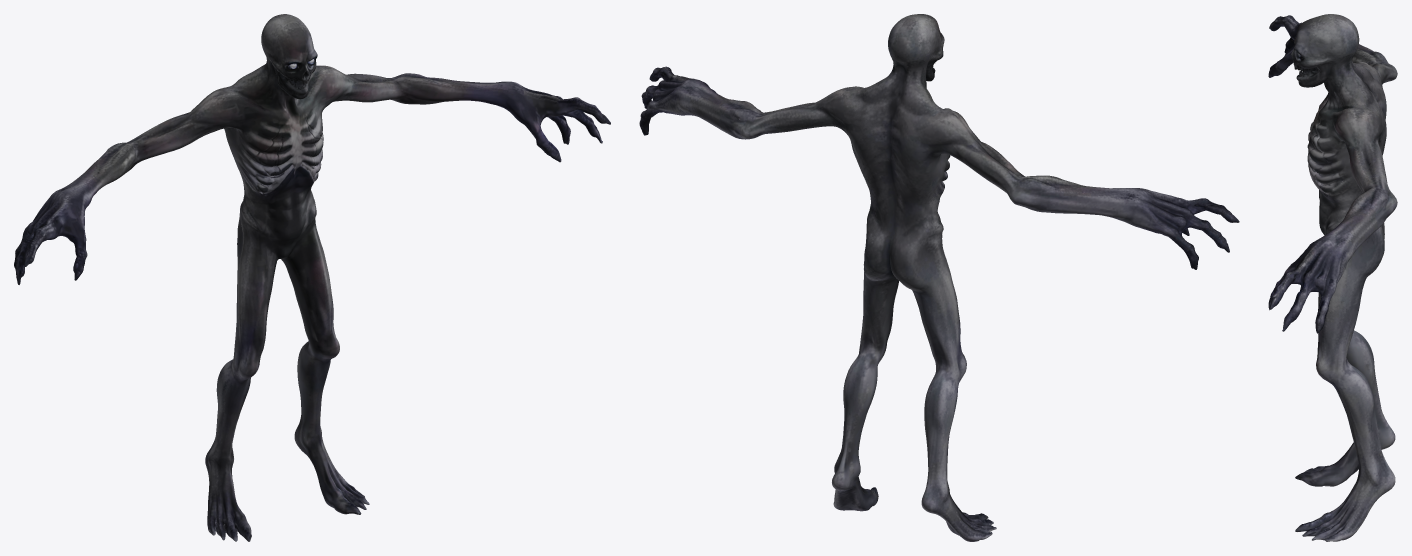
The model's file is tripo_convert_33165c37-80f2-46c4-b31e-b849c11d6b27.fbx.
3 views of the same model, side by side, from view 1: azimuth 30°, elevation 25°; view 2: azimuth 150°, elevation 25°; view 3: azimuth 270°, elevation 25° (orthographic). The views are drawn at different scales.
Parts seen in each view (by area): view 1: tripo_node_33165c37; view 2: tripo_node_33165c37; view 3: tripo_node_33165c37.
Part boxes in pixels (bbox=[...]): tripo_node_33165c37: bbox=[14, 14, 610, 541]; tripo_node_33165c37: bbox=[639, 14, 1239, 541]; tripo_node_33165c37: bbox=[1268, 14, 1397, 541].
Bounding box in the file's own units: 98.05 × 19.04 × 80.24.
Materials: 1 (1 with a texture image).
